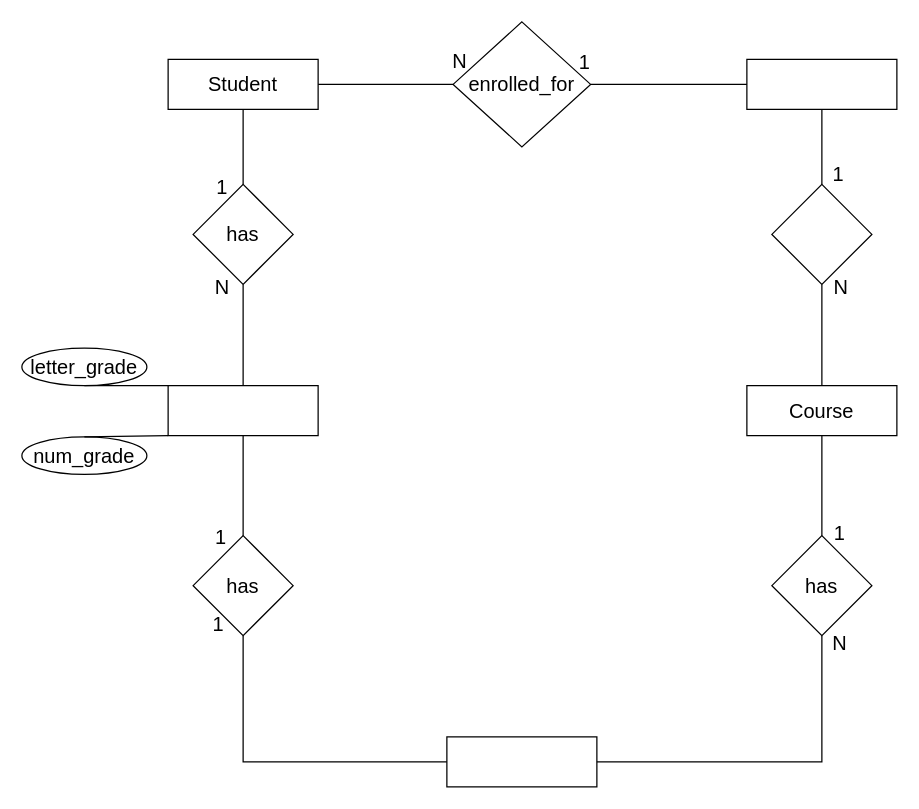
This 919x809 diagram has some shape labels left out. The centre of each missing label's shape, as x and y in pixels:
"Department" goes at point 821,83.
"Grade_Report" goes at point 242,410.
"offers" goes at point 821,233.
"Section" goes at point 521,761.
